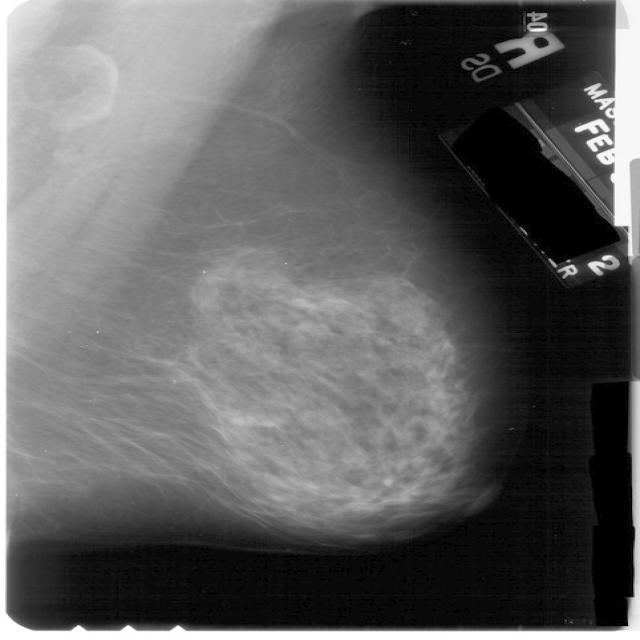tumour: (188, 264, 226, 286)
